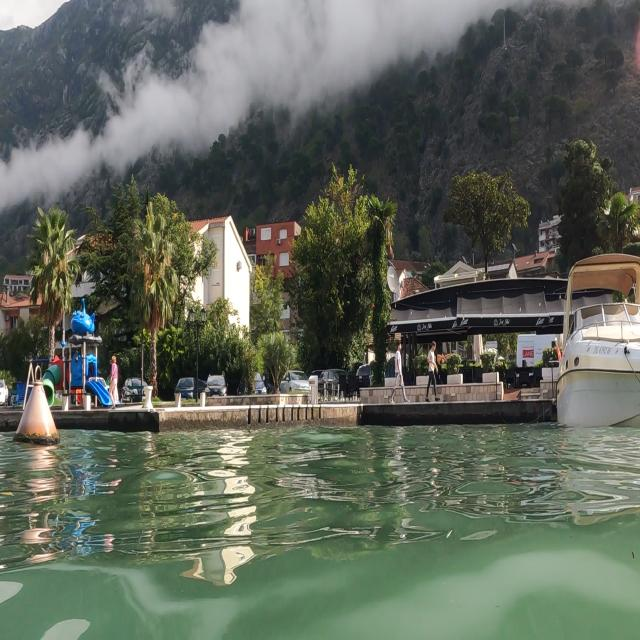boat: (554, 248, 638, 430)
buoy: (11, 358, 78, 461)
